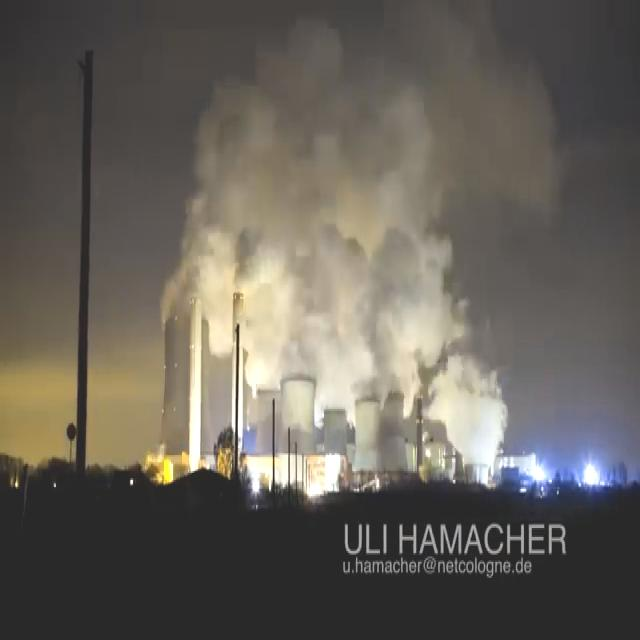smoke: (162, 0, 554, 466)
